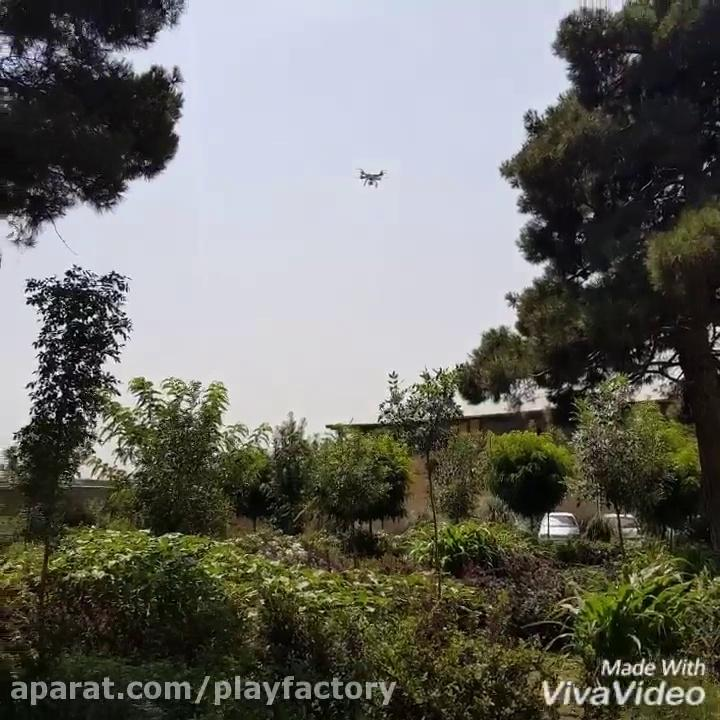drone: (350, 160, 393, 193)
